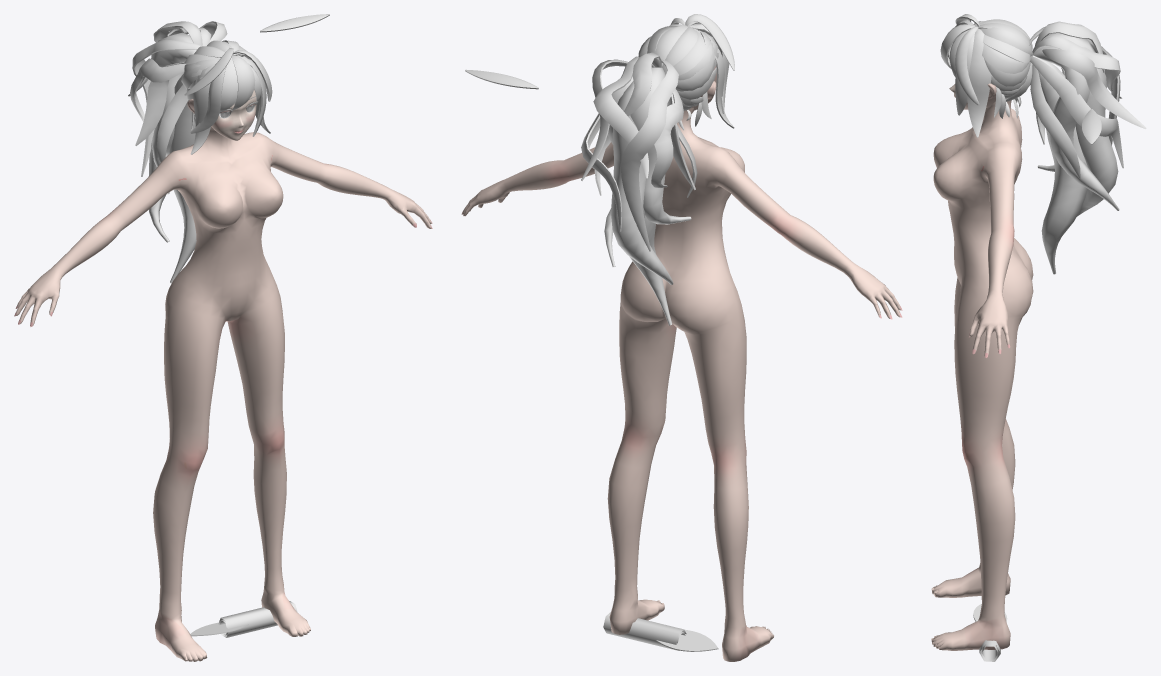
The model's file is SK_Girl_Player_001_01_HairTest.fbx.
The picture shows the model from 3 angles, left to right: view 1: azimuth 30°, elevation 25°; view 2: azimuth 150°, elevation 25°; view 3: azimuth 270°, elevation 25°; orthographic projection. The views are drawn at different scales.
Parts seen in each view (by area): view 1: pasted__pasted__Player_001_Body, geoTube6, geoTube3, polySurface16, geoCard87, geoTube4, geoCard73, geoCard83, geoCard85, geoCard5, geoCard2, geoCard30 (+1 smaller); view 2: pasted__pasted__Player_001_Body, geoCard87, geoTube1, geoTube3, geoCard75, geoCard83, geoTube4, geoCard77, geoCard81, geoCard69, geoTube6, geoCard80 (+3 smaller); view 3: pasted__pasted__Player_001_Body, geoTube6, geoTube5, geoTube1, geoCard81, geoCard69, geoCard6, geoCard71, geoCard75, geoCard68, geoCard77, geoCard33 (+9 smaller).
Boxes of the visible parts, box(x1,y1,x2,y2) form: pasted__pasted__Player_001_Body: box(14, 126, 432, 661); geoTube6: box(169, 74, 196, 283); geoTube3: box(151, 32, 196, 194); polySurface16: box(187, 90, 256, 140); geoCard87: box(132, 39, 201, 176); geoTube4: box(218, 601, 297, 637); geoCard73: box(135, 62, 184, 145); geoCard83: box(130, 58, 185, 121); geoCard85: box(156, 84, 188, 162); geoCard5: box(190, 66, 226, 133); geoCard2: box(231, 55, 255, 110); geoCard30: box(190, 59, 219, 154); pasted__pasted__Player_001_Body: box(461, 107, 902, 661); geoCard87: box(620, 59, 678, 251); geoTube1: box(611, 81, 673, 284); geoTube3: box(630, 67, 691, 224); geoCard75: box(593, 56, 654, 178); geoCard83: box(651, 88, 683, 187); geoTube4: box(603, 612, 686, 650); geoCard77: box(624, 52, 661, 116); geoCard81: box(581, 113, 621, 231); geoCard69: box(581, 59, 628, 180); geoTube6: box(629, 215, 672, 325); geoCard80: box(656, 629, 718, 651); pasted__pasted__Player_001_Body: box(931, 100, 1033, 650); geoTube6: box(1032, 55, 1087, 274); geoTube5: box(1033, 46, 1119, 210); geoTube1: box(1034, 47, 1118, 216); geoCard81: box(1030, 56, 1123, 168); geoCard69: box(1042, 49, 1146, 128); geoCard6: box(967, 28, 991, 137); geoCard71: box(1030, 64, 1080, 178); geoCard75: box(1032, 36, 1121, 98); geoCard68: box(955, 26, 979, 104); geoCard77: box(1034, 21, 1104, 72); geoCard33: box(982, 43, 1030, 73).
Size of the model in its own units: 119 by 164 by 52.41.
